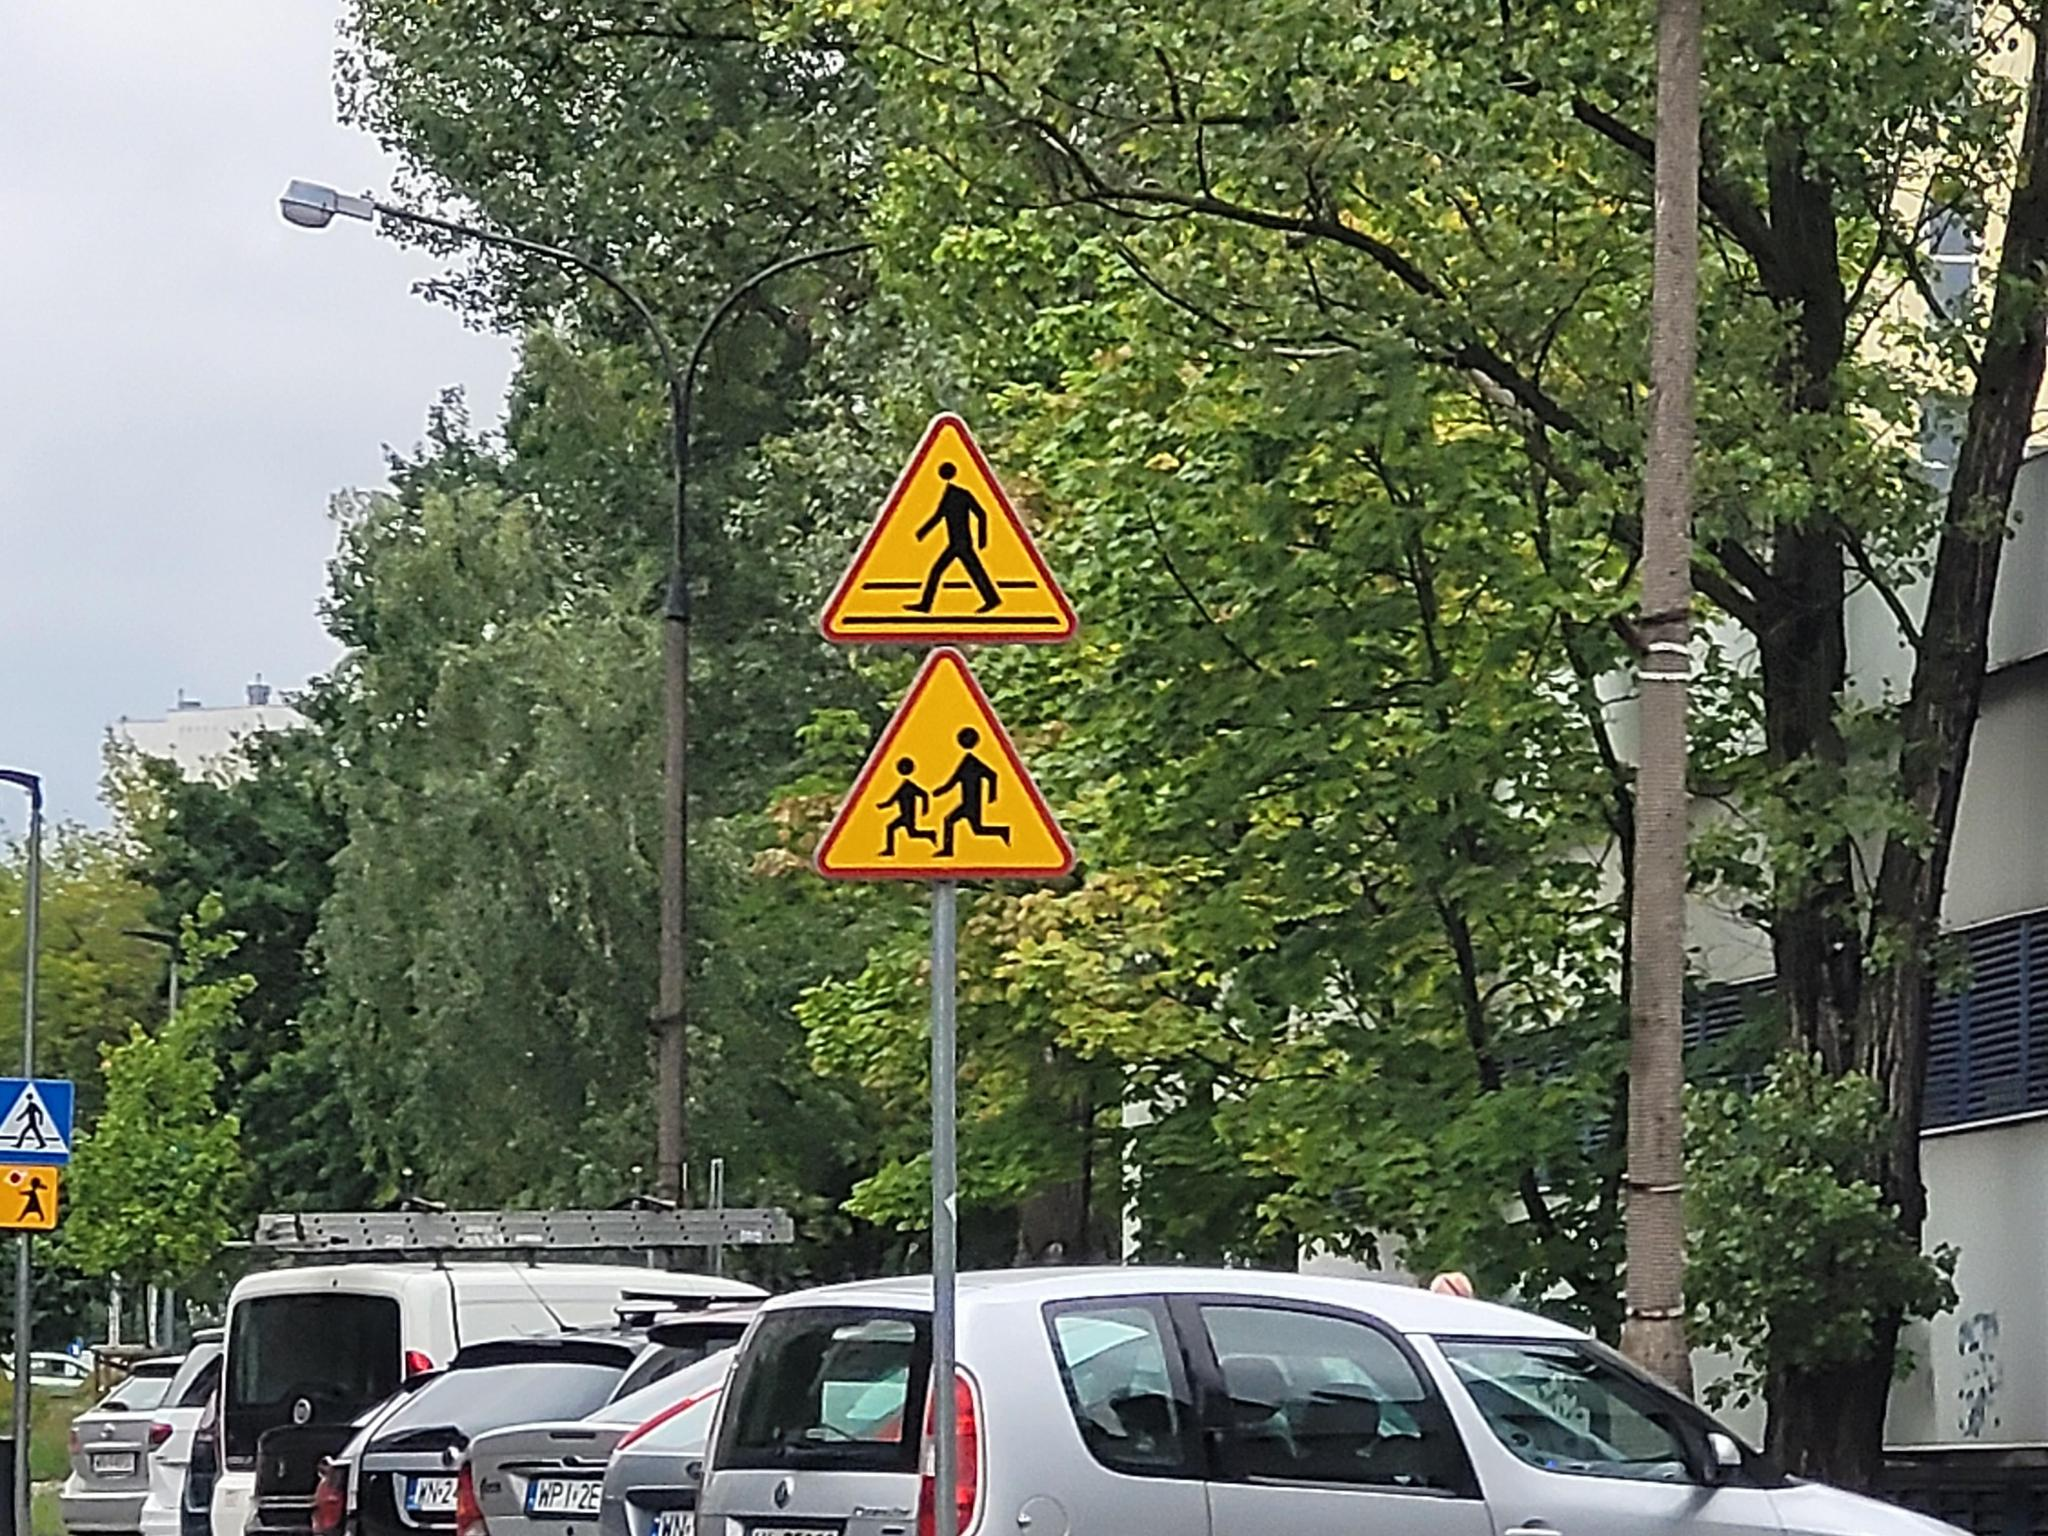information: (0, 1081, 69, 1162)
other: (0, 1167, 56, 1228)
warning: (811, 645, 1079, 878), (818, 408, 1080, 644)
